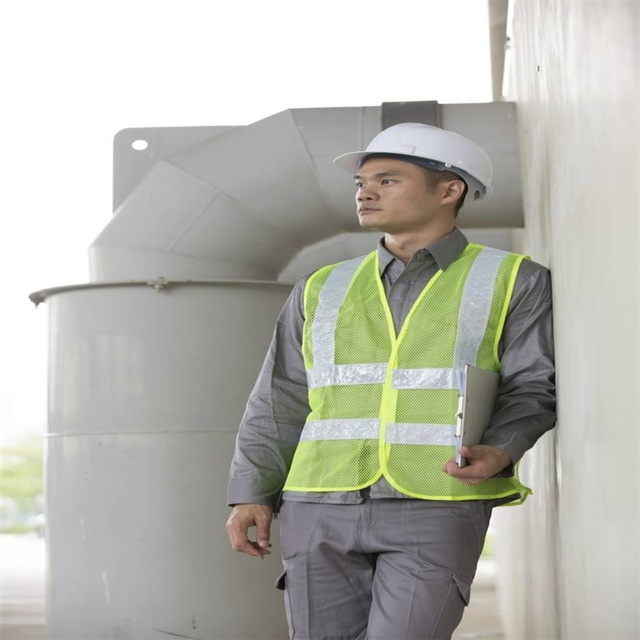Helmet: (330, 115, 502, 249)
Reflective vest: (280, 243, 534, 508)
